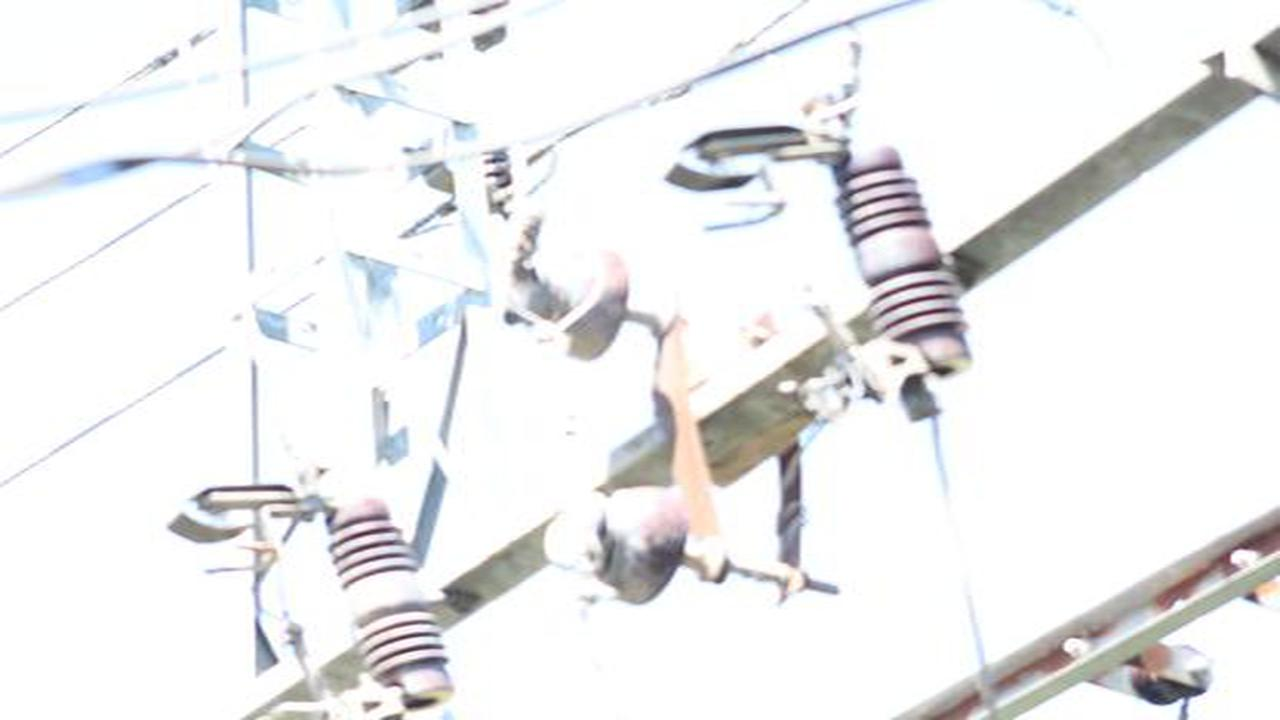insulator_pin: (539, 477, 694, 611), (496, 232, 634, 368)
